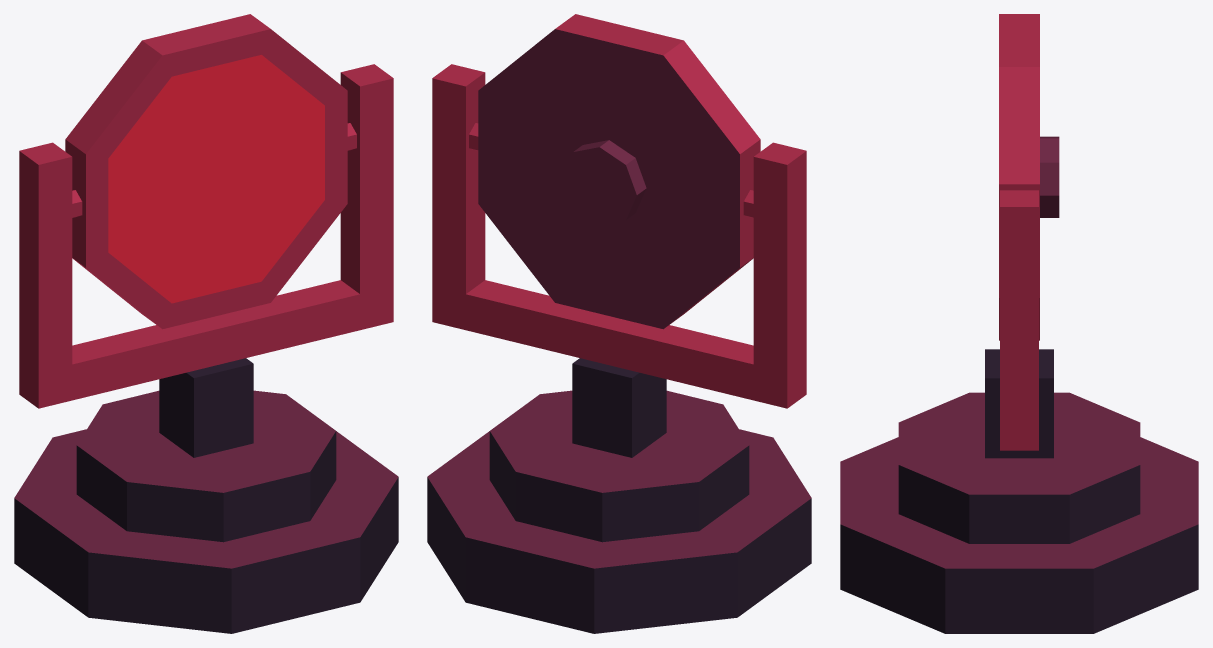
File: mirror_p2.glb
The picture shows the model from 3 angles, left to right: view 1: azimuth 30°, elevation 25°; view 2: azimuth 150°, elevation 25°; view 3: azimuth 270°, elevation 25°; orthographic projection.
Visible parts, largest first — view 1: SunMirror; view 2: SunMirror; view 3: SunMirror.
Part boxes in pixels (left/top/right/bottom): SunMirror: left=14, top=14, right=398, bottom=633; SunMirror: left=427, top=14, right=811, bottom=633; SunMirror: left=840, top=14, right=1198, bottom=633.
Size of the model in its own units: 0.95 by 1.32 by 0.83.
